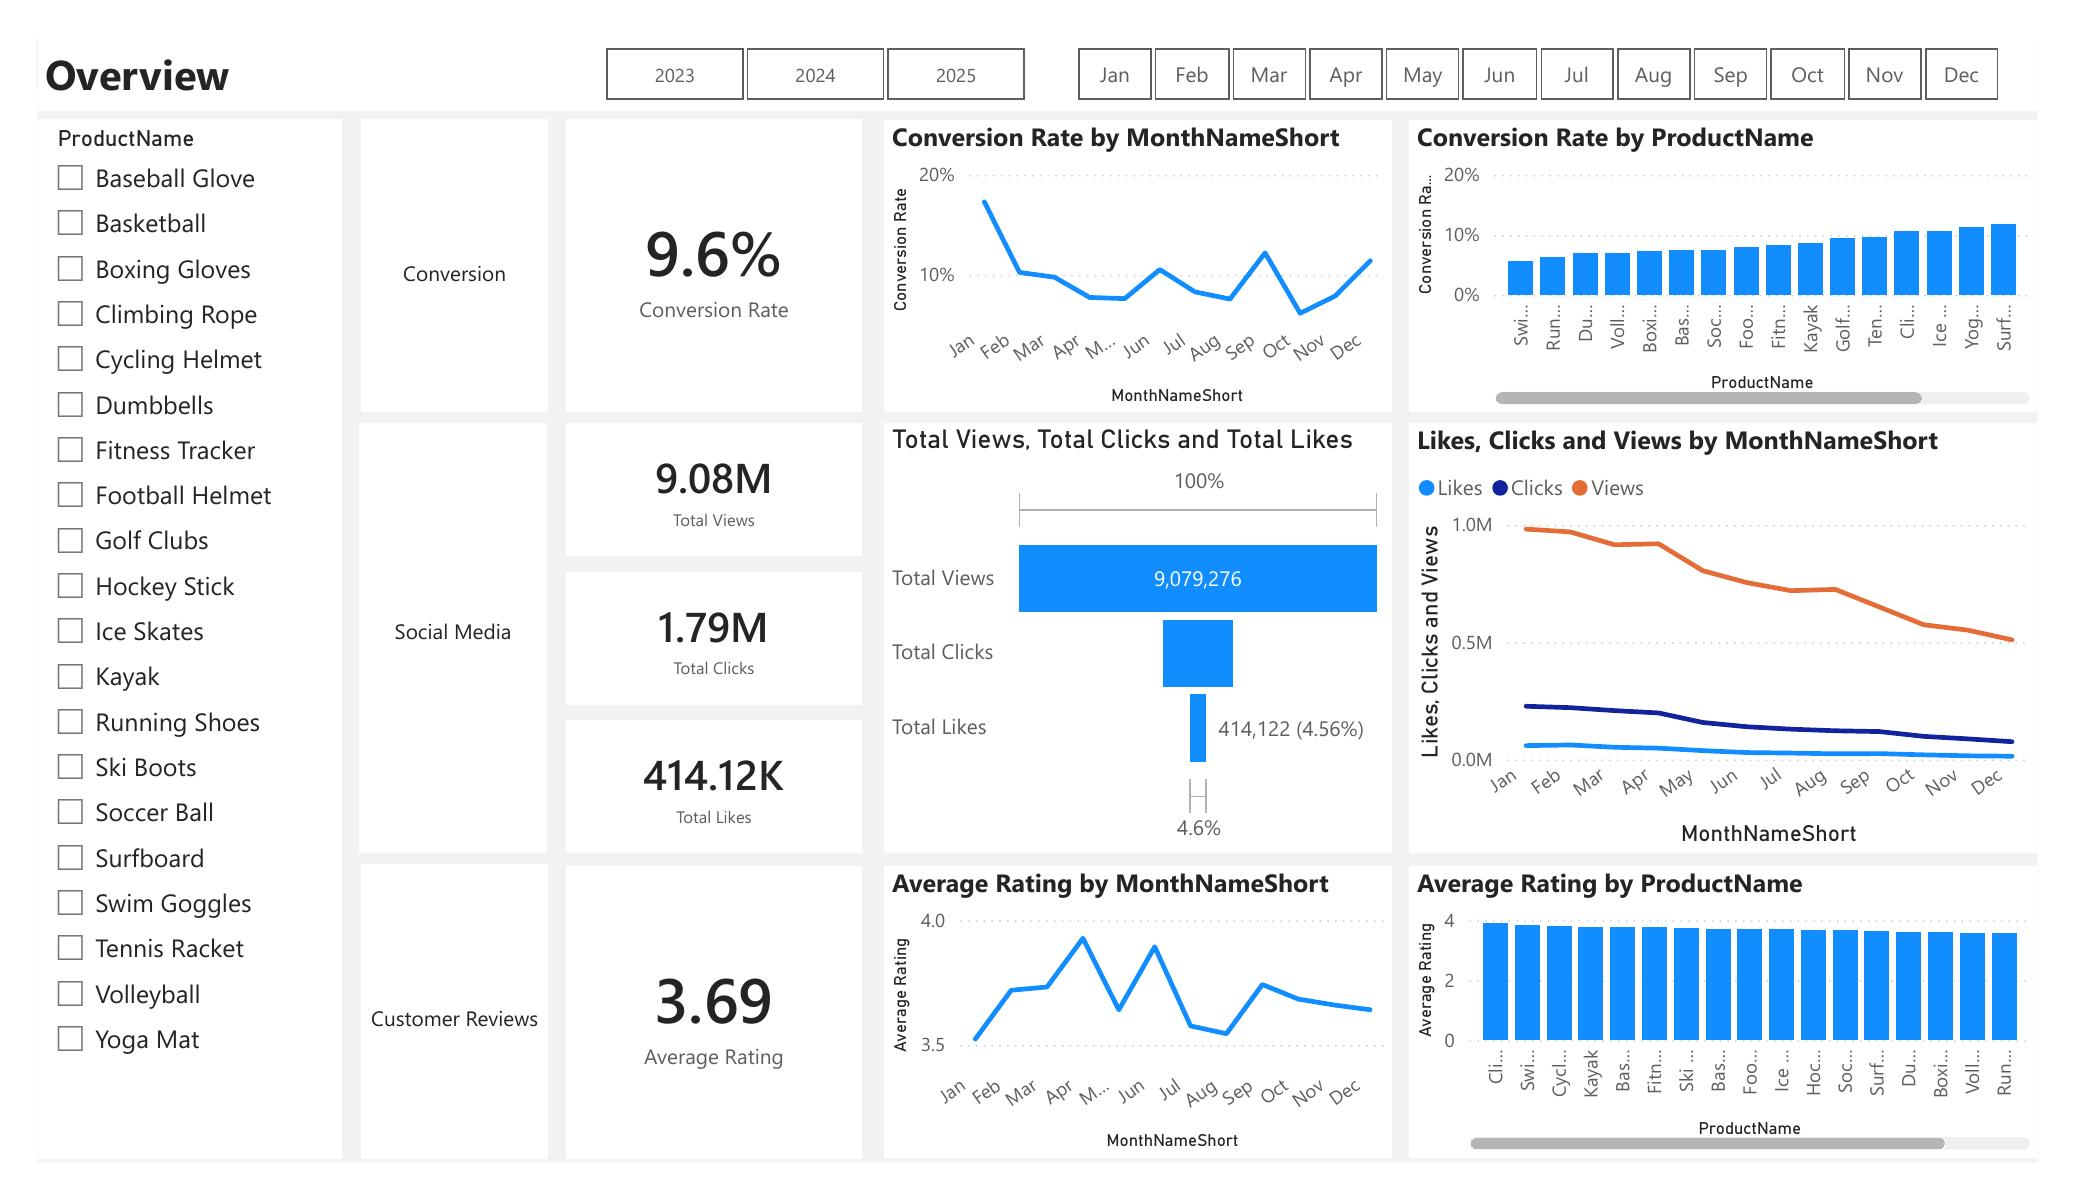

This screenshot's page, from the dashboard's own definition file:
{"tool":"powerbi","page":{"name":"Overview","canvas":[1280,720],"ordinal":0},"visuals":[{"type":"cardVisual","fields":{"Data":["Measure Table.Conversion Rate"]},"box":[338.3,51.7,190,188.3],"z":0},{"type":"slicer","fields":{"Values":["products.ProductName"]},"box":[0,52.1,195.4,665.6],"z":1000},{"type":"textbox","box":[0,0,1280.2,47.4],"z":2000},{"type":"textbox","box":[207.3,52.1,119.6,188.3],"z":3000},{"type":"textbox","box":[206.1,247.4,119.6,275],"z":4000},{"type":"textbox","box":[207.3,529.4,119.6,188.3],"z":5000},{"type":"cardVisual","fields":{"Data":["Measure Table.Total Likes"]},"box":[338.3,436.7,190,85],"z":6000},{"type":"cardVisual","fields":{"Data":["Measure Table.Total Views"]},"box":[338.3,246.7,190,85],"z":7000},{"type":"cardVisual","fields":{"Data":["Measure Table.Total Clicks"]},"box":[338.3,341.7,190,85],"z":8000},{"type":"cardVisual","fields":{"Data":["Measure Table.Average Rating"]},"box":[338.3,530,190,188.3],"z":9000},{"type":"slicer","fields":{"Values":["Calendar.Year"]},"box":[337.5,0,318.6,47.4],"z":10000},{"type":"slicer","fields":{"Values":["Calendar.MonthNameShort"]},"box":[639.5,0,639.5,47.4],"z":11000},{"type":"lineChart","fields":{"Category":["Calendar.MonthNameShort"],"Y":["Measure Table.Conversion Rate"]},"box":[541.7,53.3,325,186.7],"z":12000},{"type":"clusteredColumnChart","fields":{"Category":["products.ProductName"],"Y":["Measure Table.Conversion Rate"]},"box":[878.3,53.3,401.7,186.7],"z":13000},{"type":"lineChart","fields":{"Category":["Calendar.MonthNameShort"],"Y":["Measure Table.Total Likes","Measure Table.Total Clicks","Measure Table.Total Views"]},"box":[878.3,246.7,401.7,275],"z":14000},{"type":"funnel","fields":{"Y":["Measure Table.Total Views","Measure Table.Total Clicks","Measure Table.Total Likes"]},"box":[541.7,246.7,325,275],"z":15000},{"type":"lineChart","fields":{"Category":["Calendar.MonthNameShort"],"Y":["Measure Table.Average Rating"]},"box":[541.7,530,325,186.7],"z":16000},{"type":"clusteredColumnChart","fields":{"Category":["products.ProductName"],"Y":["Measure Table.Average Rating"]},"box":[878.3,530,401.7,186.7],"z":17000}]}

Visuals, with their boxes on the page's 1280x720 design canvas (x1, y1, x2, y2). These are canvas units, not pixel positions in the 2075x1200 screenshot, which may show the page scaled, cropped or inside an application window:
cardVisual - Measure Table.Conversion Rate: x1=338 y1=52 x2=528 y2=240
slicer - products.ProductName: x1=0 y1=52 x2=195 y2=718
textbox: x1=0 y1=0 x2=1280 y2=47
textbox: x1=207 y1=52 x2=327 y2=240
textbox: x1=206 y1=247 x2=326 y2=522
textbox: x1=207 y1=529 x2=327 y2=718
cardVisual - Measure Table.Total Likes: x1=338 y1=437 x2=528 y2=522
cardVisual - Measure Table.Total Views: x1=338 y1=247 x2=528 y2=332
cardVisual - Measure Table.Total Clicks: x1=338 y1=342 x2=528 y2=427
cardVisual - Measure Table.Average Rating: x1=338 y1=530 x2=528 y2=718
slicer - Calendar.Year: x1=338 y1=0 x2=656 y2=47
slicer - Calendar.MonthNameShort: x1=640 y1=0 x2=1279 y2=47
lineChart - Calendar.MonthNameShort x Measure Table.Conversion Rate: x1=542 y1=53 x2=867 y2=240
clusteredColumnChart - products.ProductName x Measure Table.Conversion Rate: x1=878 y1=53 x2=1280 y2=240
lineChart - Calendar.MonthNameShort x Measure Table.Total Likes: x1=878 y1=247 x2=1280 y2=522
funnel - Measure Table.Total Views x Measure Table.Total Clicks: x1=542 y1=247 x2=867 y2=522
lineChart - Calendar.MonthNameShort x Measure Table.Average Rating: x1=542 y1=530 x2=867 y2=717
clusteredColumnChart - products.ProductName x Measure Table.Average Rating: x1=878 y1=530 x2=1280 y2=717
